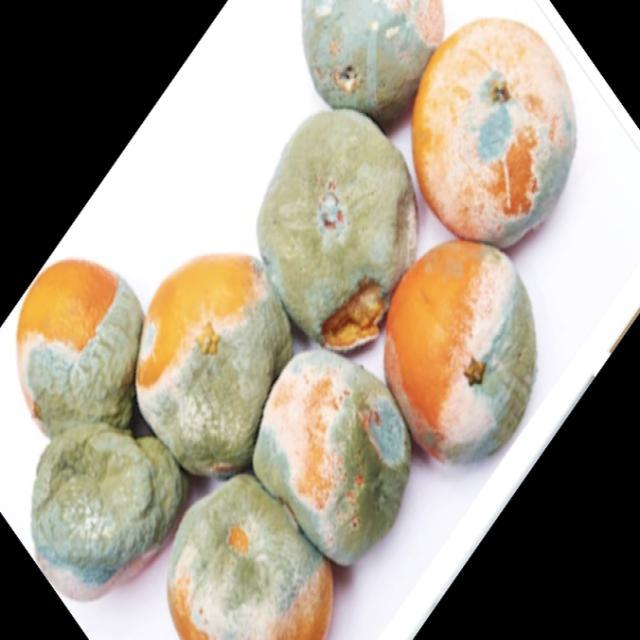sangat-busuk: (258, 109, 416, 352), (136, 254, 291, 476), (253, 349, 410, 565), (386, 241, 535, 462), (167, 474, 332, 639), (32, 424, 186, 598), (17, 261, 143, 438), (302, 0, 441, 125)
sedikit-busuk: (412, 18, 575, 248)
